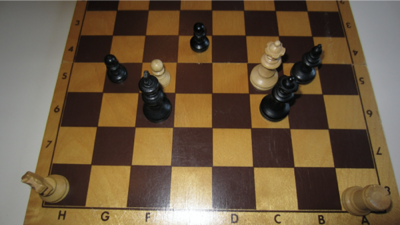black-bishop: (290, 44, 324, 85)
black-king: (138, 70, 172, 124)
black-pawn: (104, 54, 129, 84), (190, 22, 210, 53)
black-queen: (260, 75, 300, 123)
white-knight: (21, 171, 71, 204)
white-pawn: (150, 59, 172, 89)
white-queen: (250, 40, 286, 91)
white-rook: (342, 184, 393, 217)
